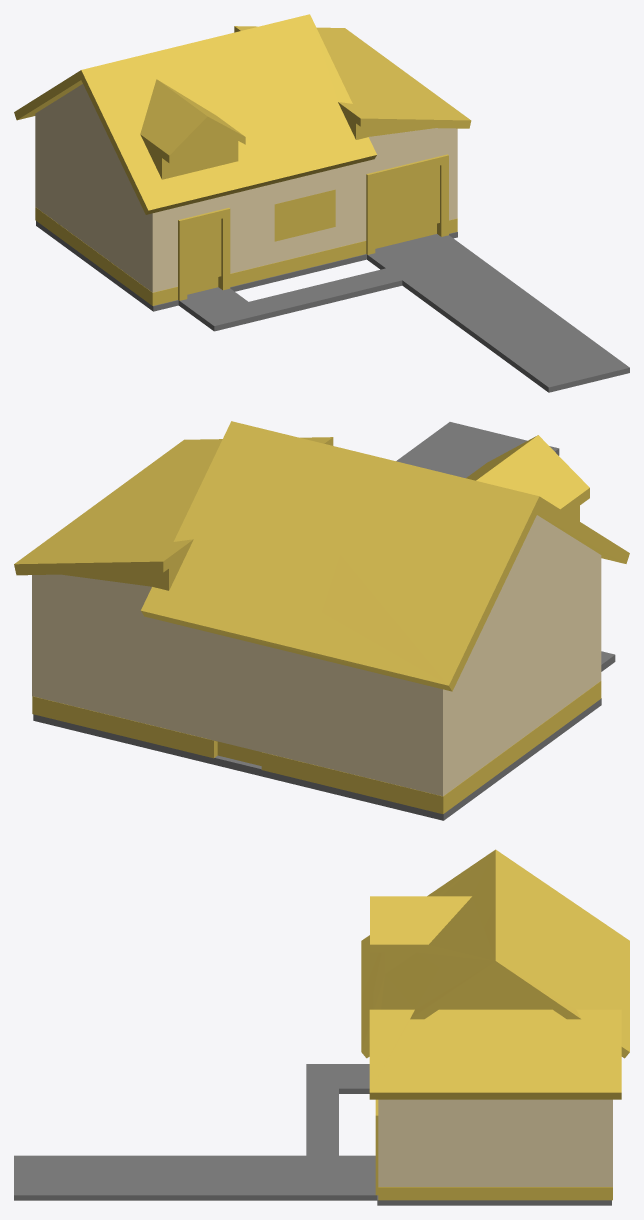
File: gold_house.gltf
The picture shows the model from 3 angles, top to bottom: view 1: azimuth 30°, elevation 25°; view 2: azimuth 150°, elevation 25°; view 3: azimuth 270°, elevation 25°; orthographic projection. The views are drawn at different scales.
Bounding box in the file's own units: 1.29 × 0.7574 × 2.1.
